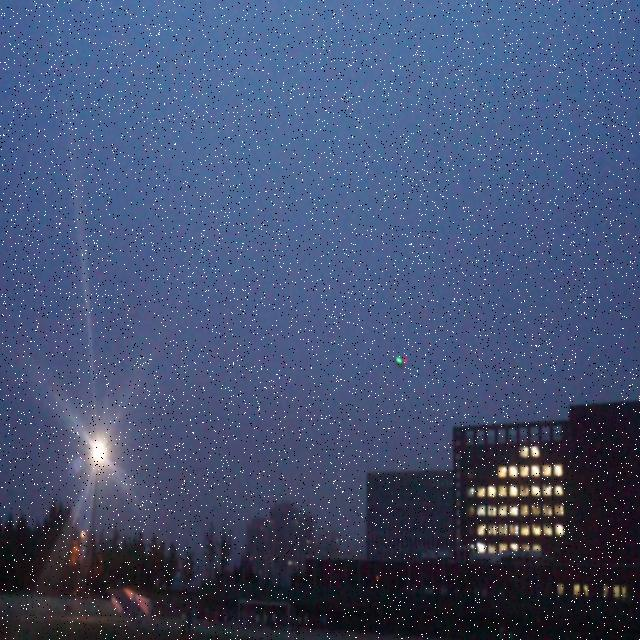UAV: (395, 356, 408, 368)
